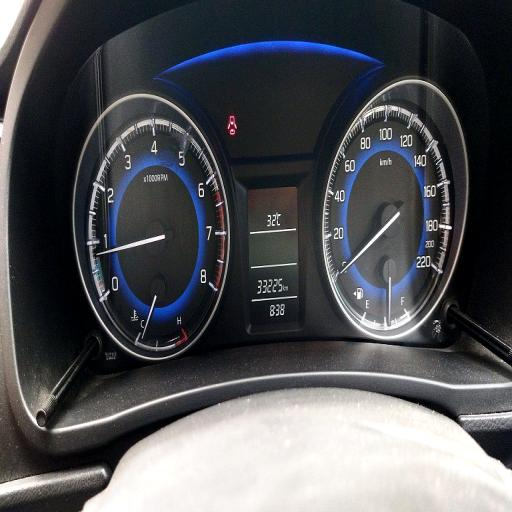tachometer: (89, 117, 227, 348)
